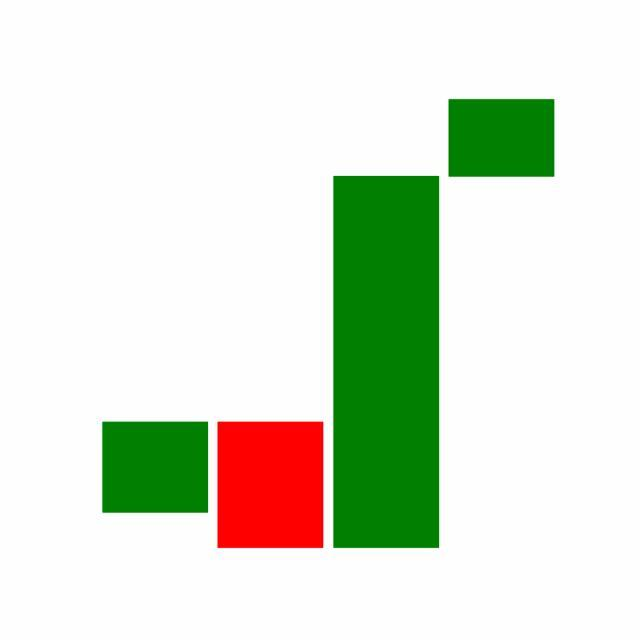Marubozu: (329, 173, 445, 552)
